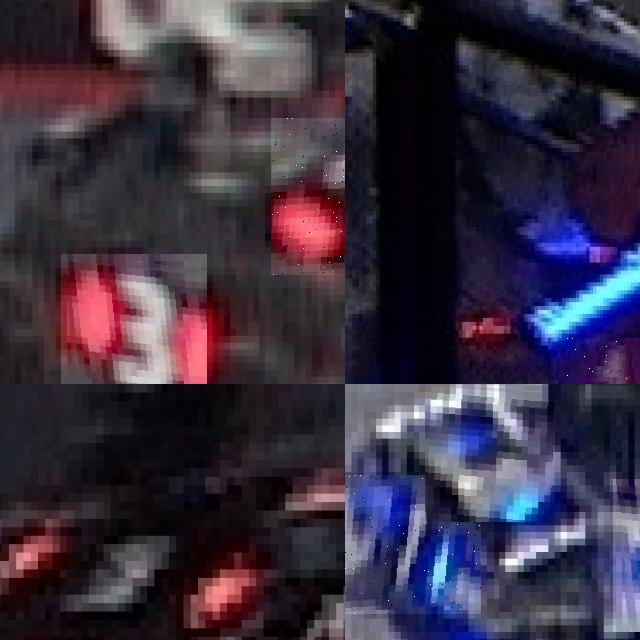B1: (345, 475, 480, 615), (425, 384, 554, 522), (551, 337, 640, 384)
R3: (61, 254, 206, 384), (270, 118, 345, 274)
